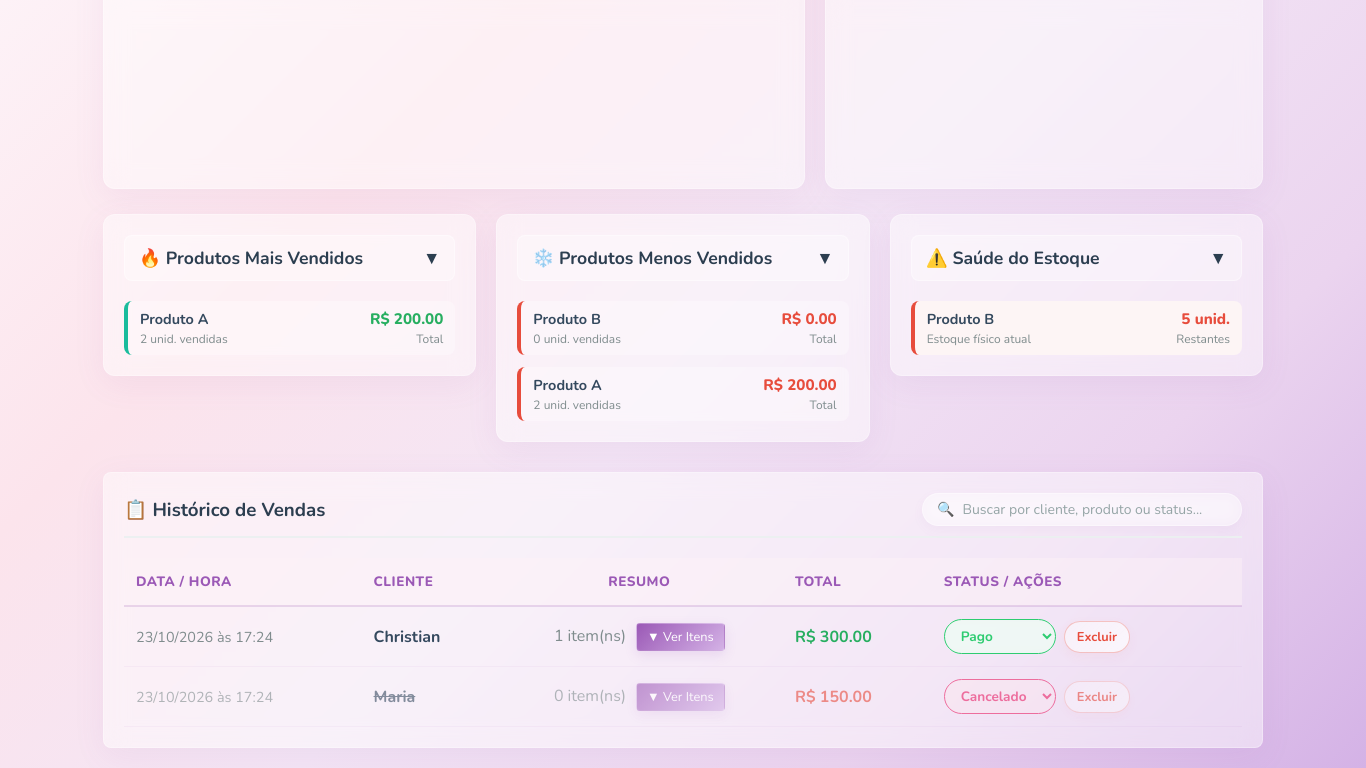
Componente Relatorios - Testes de Dashboard › Deve expandir e exibir os itens do pedido ao clicar em "Ver Itens"
(page scrolled)
Expected: the text "Christian" is shown, x1=362 y1=606 x2=496 y2=666
Expected: the text "Detalhes do Pedido" is not shown
Click the button "▼ Ver Itens" in the row of "Christian": (680, 636) x1=636 y1=622 x2=725 y2=650
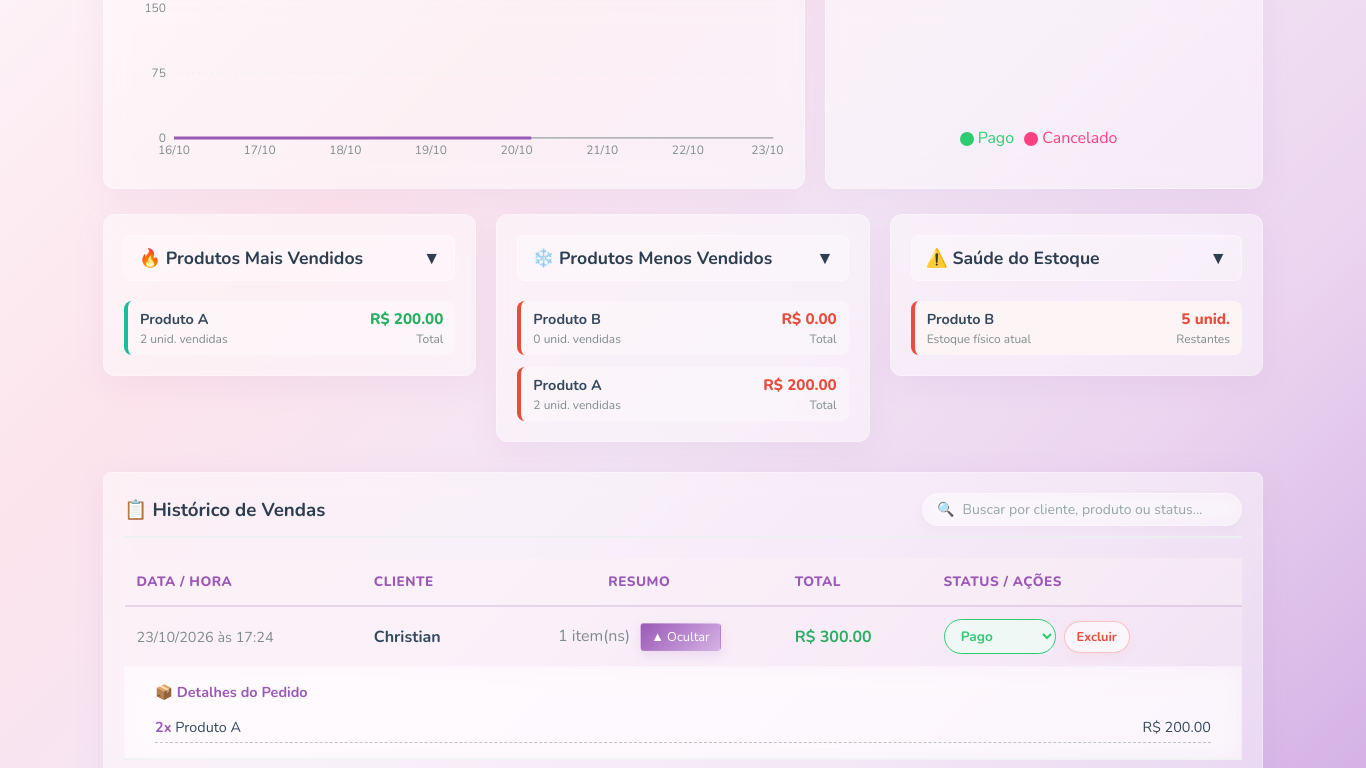
Expected: the 1st text "Produto A" is shown, x1=140 y1=309 x2=208 y2=329
Expected: the heading "📦 Detalhes do Pedido" is shown, x1=155 y1=682 x2=308 y2=702
Expected: the text "2x" is shown, x1=155 y1=717 x2=172 y2=737
